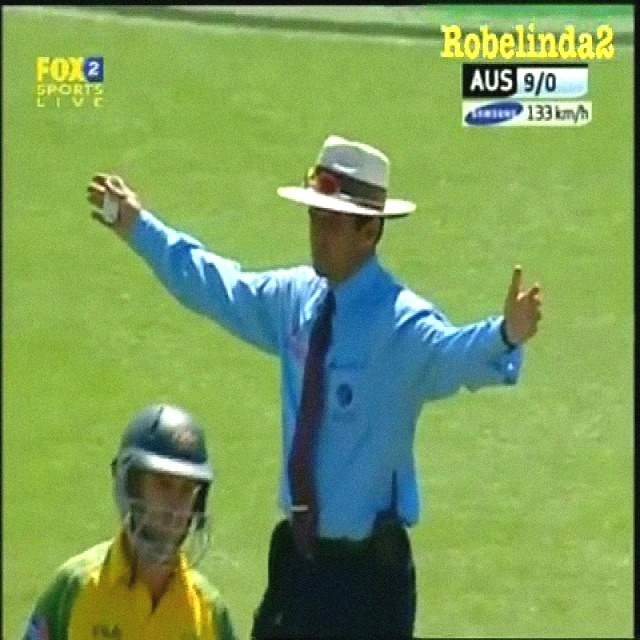Wide: (87, 124, 544, 640)
